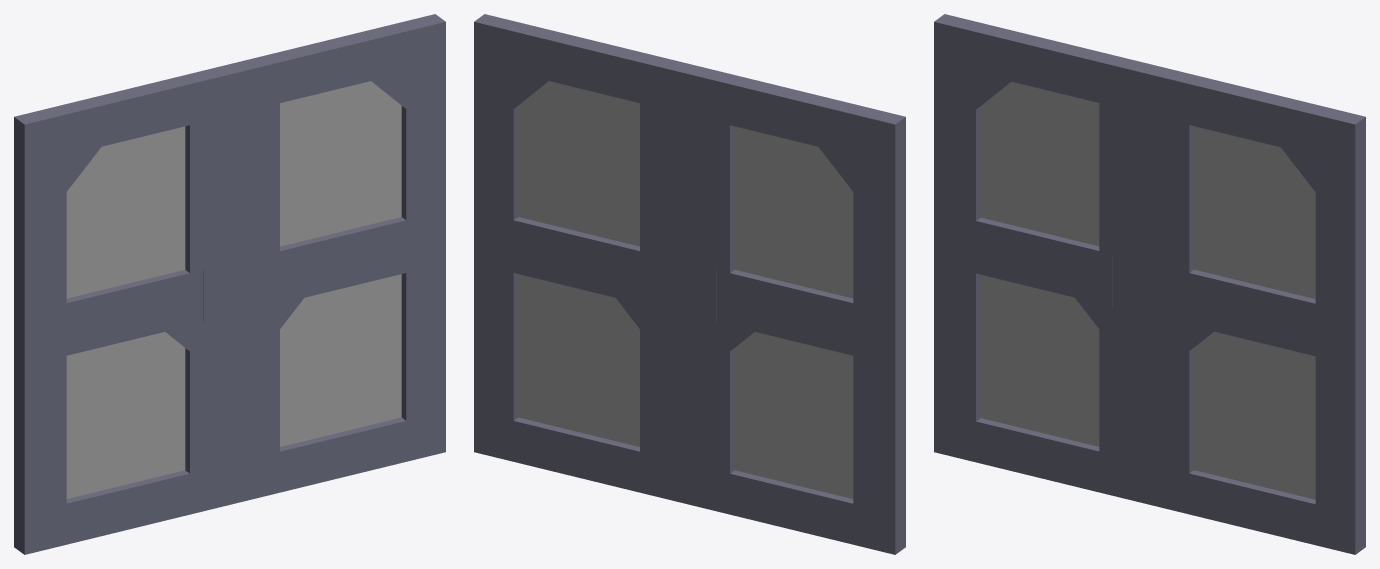
The model's file is Door.fbx.
3 renders of one model, left to right at view 1: azimuth 30°, elevation 25°; view 2: azimuth 150°, elevation 25°; view 3: azimuth 330°, elevation 25°, orthographic.
Visible parts, largest first — view 1: DL, DR, GlassR, GlassL; view 2: DL, DR, GlassR, GlassL; view 3: DR, DL, GlassR, GlassL.
Boxes of the visible parts, x1,y1,x2,y2 form: DL: [14, 65, 235, 554]; DR: [203, 14, 445, 503]; GlassR: [280, 81, 401, 446]; GlassL: [66, 126, 185, 498]; DL: [684, 65, 905, 554]; DR: [474, 14, 716, 503]; GlassR: [518, 81, 639, 446]; GlassL: [734, 126, 853, 498]; DR: [1113, 65, 1365, 554]; DL: [934, 14, 1154, 503]; GlassR: [1194, 126, 1315, 499]; GlassL: [980, 81, 1099, 446].
Size of the model in its own units: 298 by 291 by 13.06.
